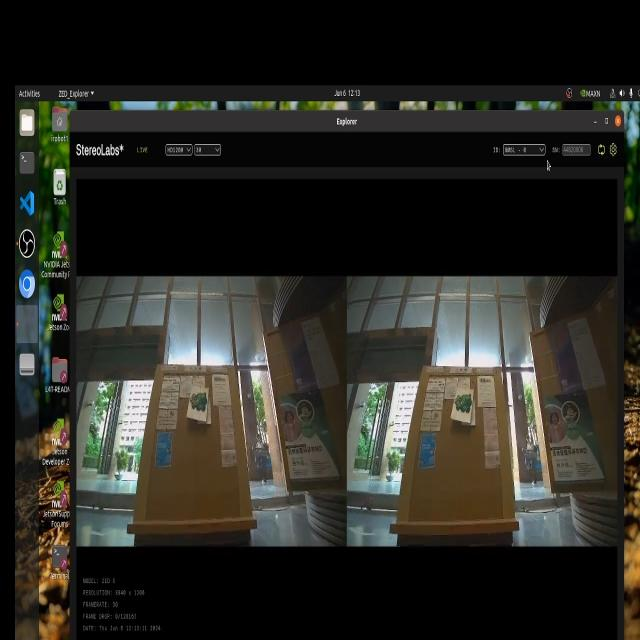green: (188, 381, 205, 414), (454, 388, 473, 417)
